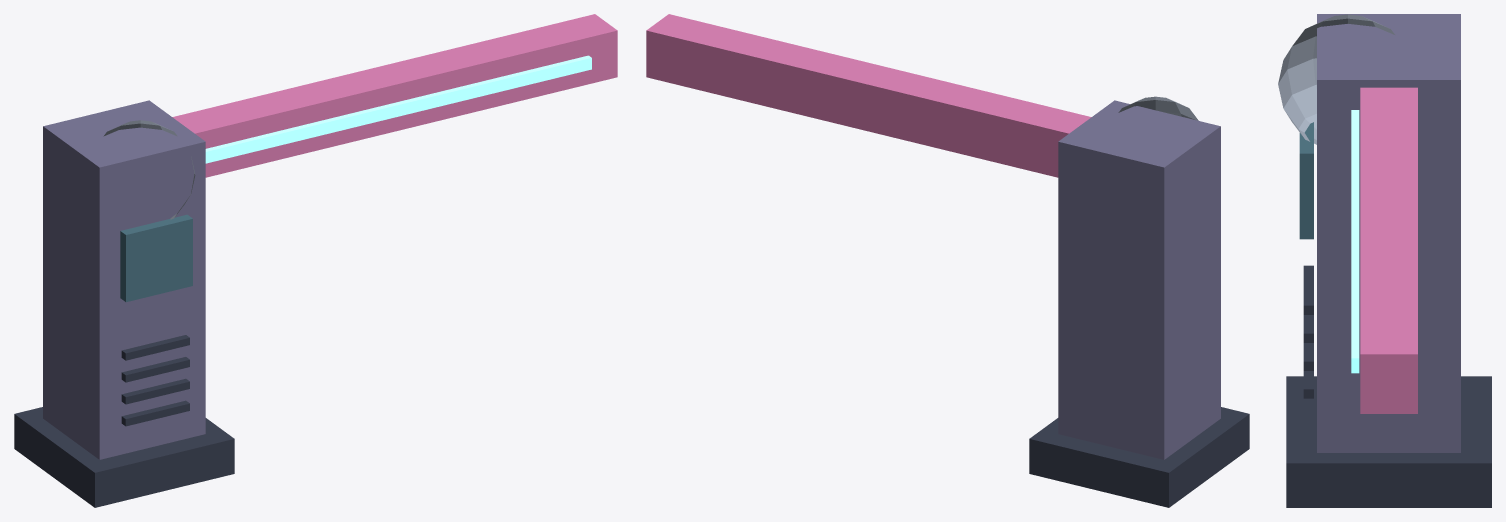
The model's file is neon-dispatch-parcel-yard-barrier.glb.
3 renders of one model, left to right at view 1: azimuth 30°, elevation 25°; view 2: azimuth 150°, elevation 25°; view 3: azimuth 270°, elevation 25°, orthographic. The views are drawn at different scales.
Parts seen in each view (by area): view 1: shell, accent, dark, light, glass; view 2: shell, accent, dark, metal; view 3: shell, accent, dark, metal, light, glass.
Part boxes in pixels (left/top/right/bottom): shell: left=43, top=100, right=205, bottom=459; accent: left=172, top=14, right=617, bottom=177; dark: left=14, top=335, right=234, bottom=507; light: left=205, top=55, right=591, bottom=163; glass: left=120, top=214, right=192, bottom=302; shell: left=1058, top=100, right=1220, bottom=459; accent: left=646, top=14, right=1091, bottom=177; dark: left=1029, top=407, right=1249, bottom=507; metal: left=1118, top=96, right=1198, bottom=120; shell: left=1317, top=14, right=1460, bottom=452; accent: left=1360, top=87, right=1417, bottom=413; dark: left=1286, top=265, right=1491, bottom=507; metal: left=1278, top=14, right=1394, bottom=144; light: left=1351, top=110, right=1359, bottom=373; glass: left=1299, top=122, right=1313, bottom=239.
Bounding box in the file's own units: 1.98 × 1.19 × 0.52.
